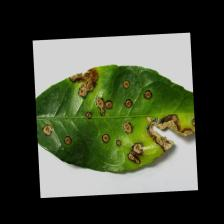canker: (43, 62, 196, 164)
